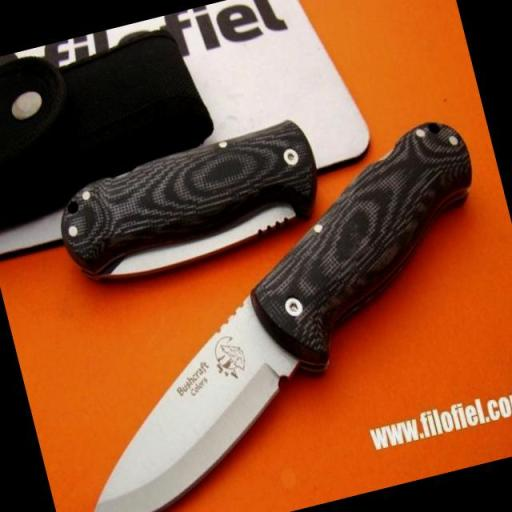knife: (22, 240, 384, 512)
